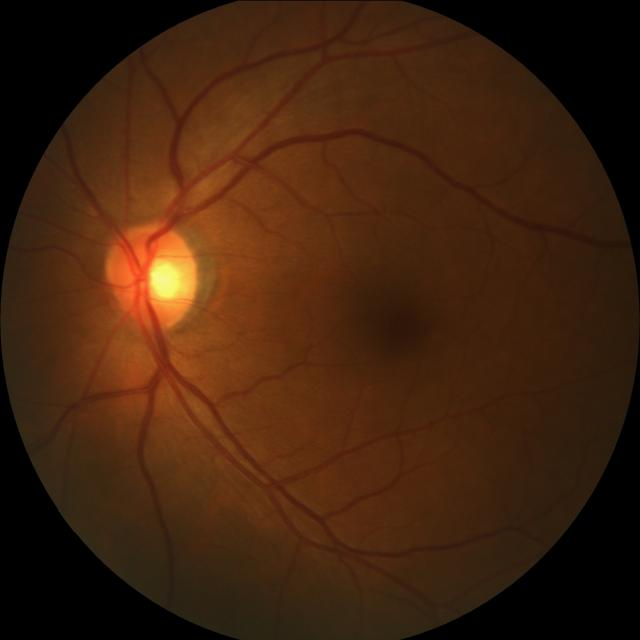OC: (139, 252, 184, 302)
OD: (110, 223, 200, 327)
